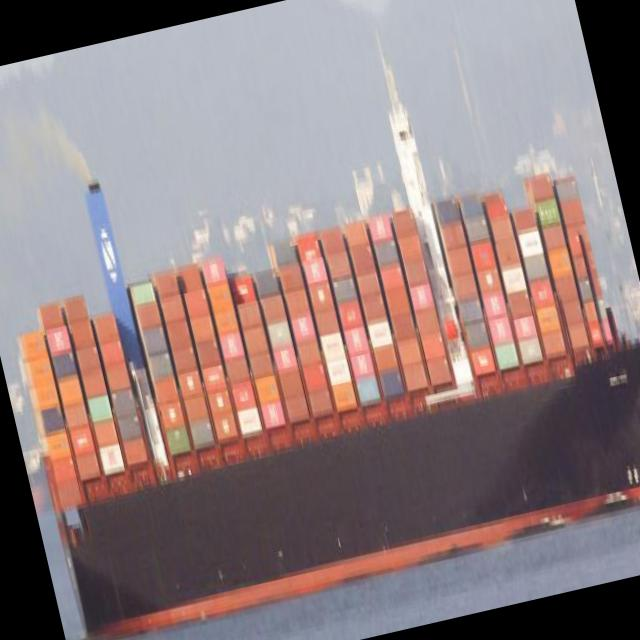Cargo: (21, 65, 640, 631)
